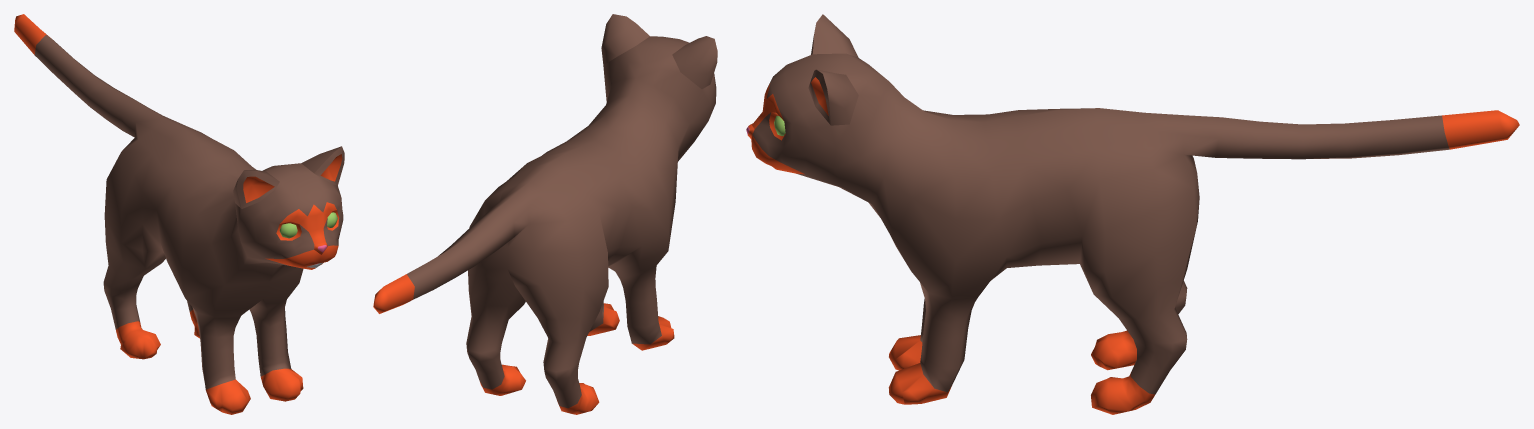
The model's file is Cat4.fbx.
3 views of the same model, side by side, from view 1: azimuth 30°, elevation 25°; view 2: azimuth 150°, elevation 25°; view 3: azimuth 270°, elevation 25° (orthographic). The views are drawn at different scales.
Parts seen in each view (by area): view 1: Kitty_001; view 2: Kitty_001; view 3: Kitty_001.
Part boxes in pixels (bbox=[...]): Kitty_001: bbox=[14, 14, 344, 414]; Kitty_001: bbox=[373, 14, 717, 414]; Kitty_001: bbox=[746, 14, 1519, 414].
Size of the model in its own units: 13.98 by 30.59 by 62.64.
1 material, 1 textured.
